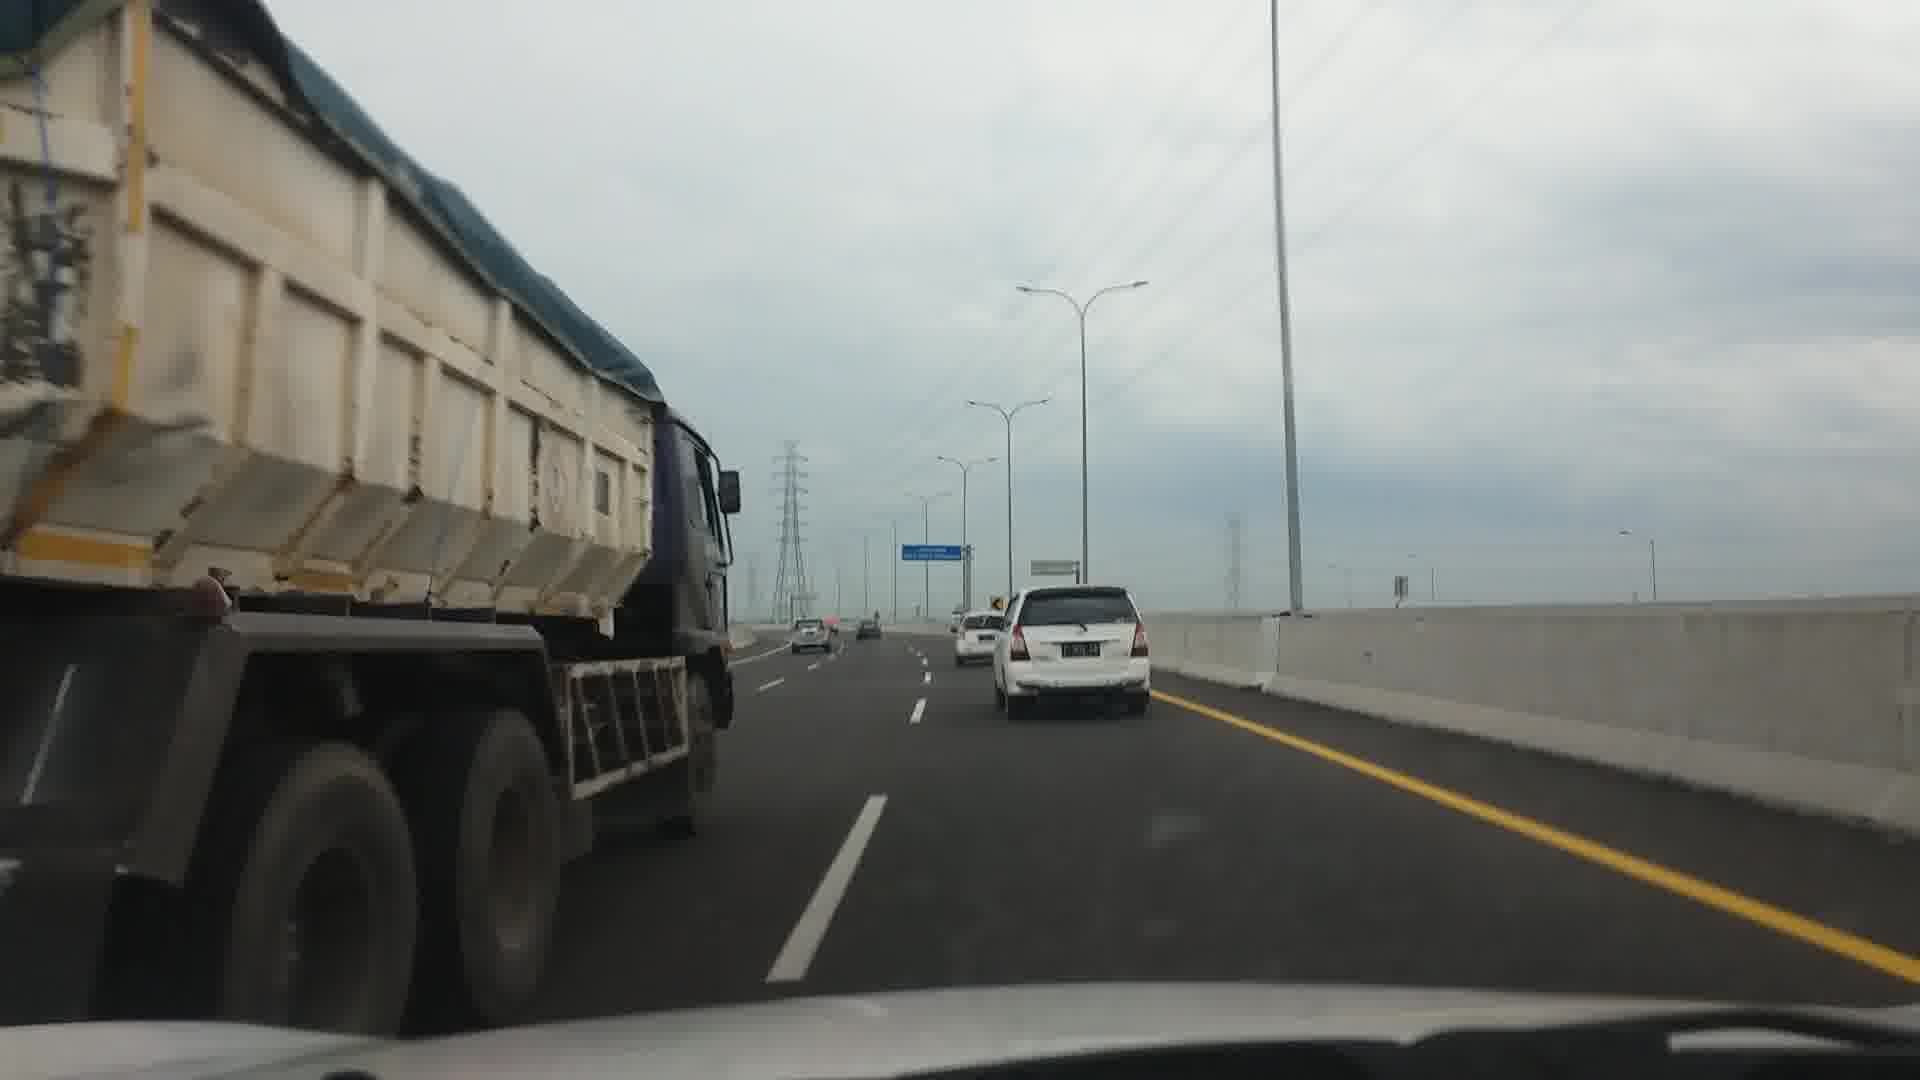plate_positive: (1062, 644, 1100, 657)
